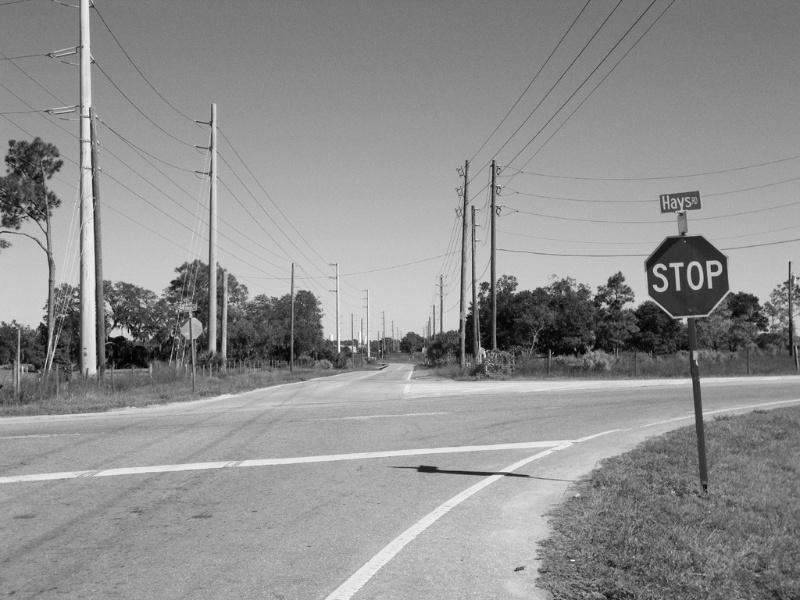stop: (639, 234, 737, 322)
